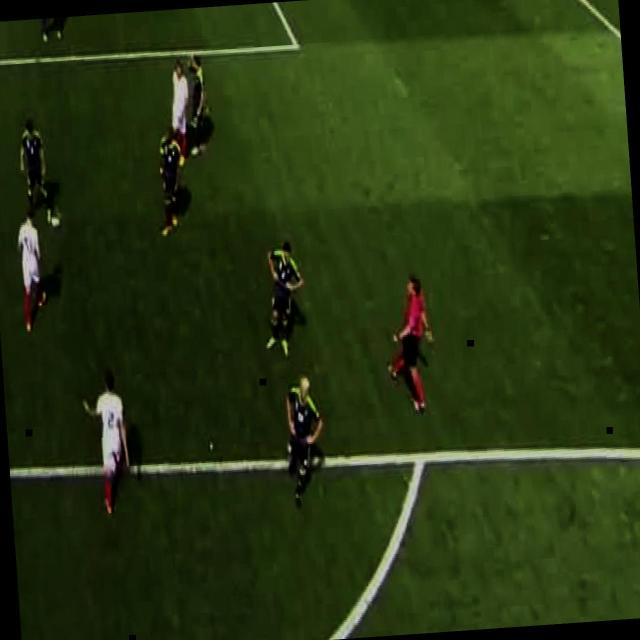ball: (50, 212, 62, 230)
player-white: (380, 276, 438, 418), (80, 366, 134, 516), (278, 374, 329, 506), (258, 239, 309, 359), (16, 208, 49, 334), (152, 128, 188, 238), (17, 119, 53, 222), (162, 62, 194, 168), (183, 54, 209, 158), (40, 17, 63, 43)
